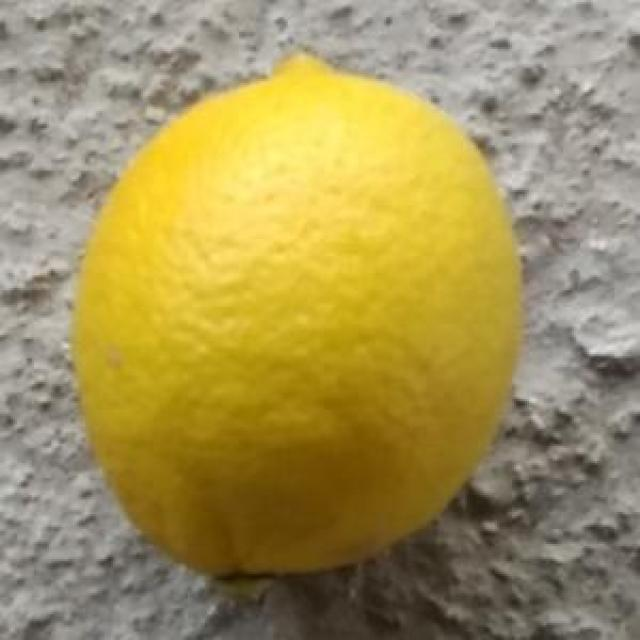lemon: (65, 47, 526, 580)
